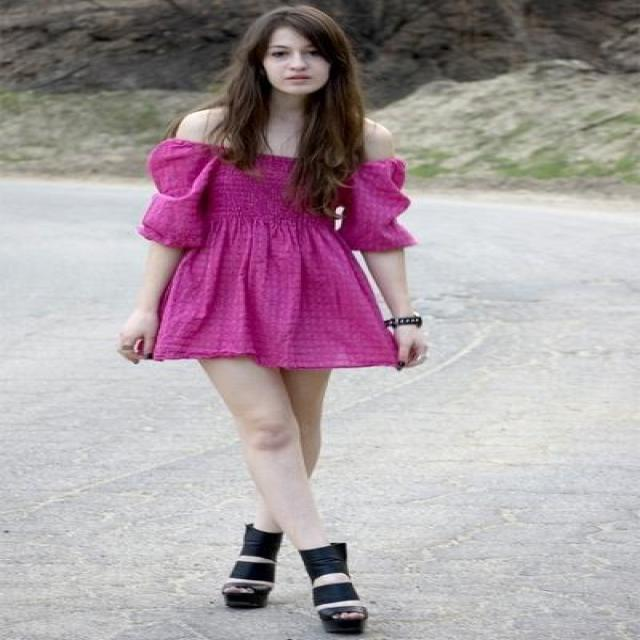dress: (139, 137, 413, 369)
shoe: (222, 524, 364, 634)
